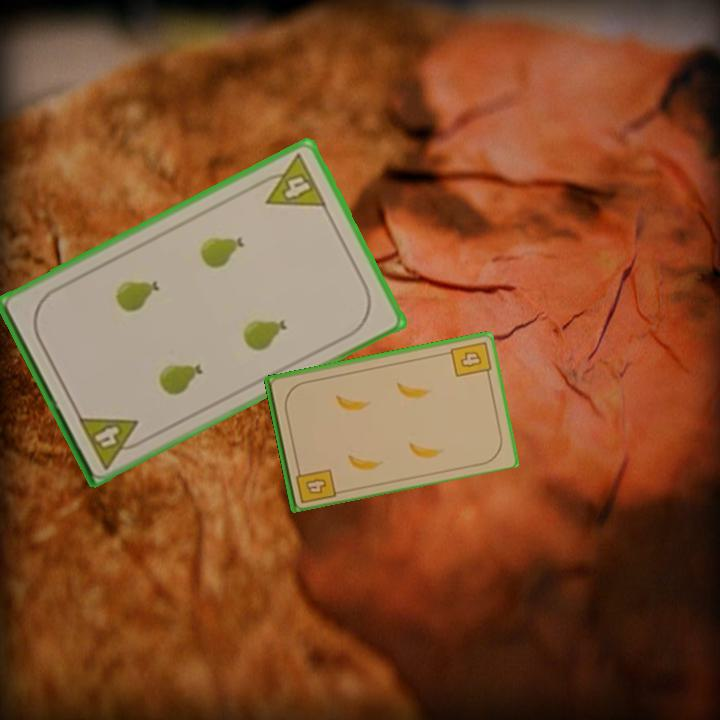4b: (292, 461, 338, 506), (446, 338, 493, 380)
4p: (253, 150, 330, 210), (74, 412, 149, 472)
